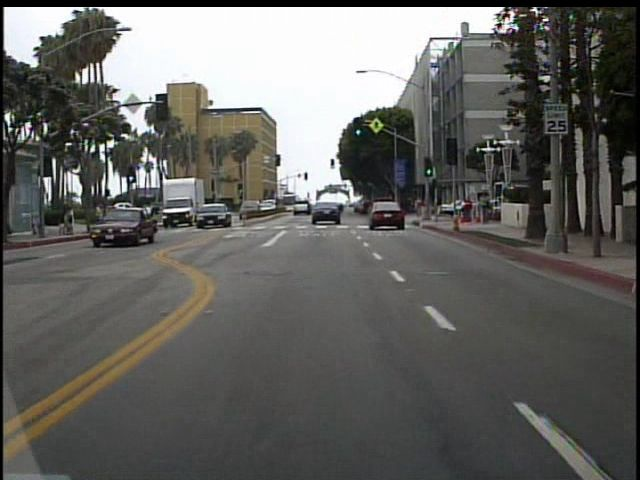person: (35, 212, 46, 236), (97, 196, 102, 235)
